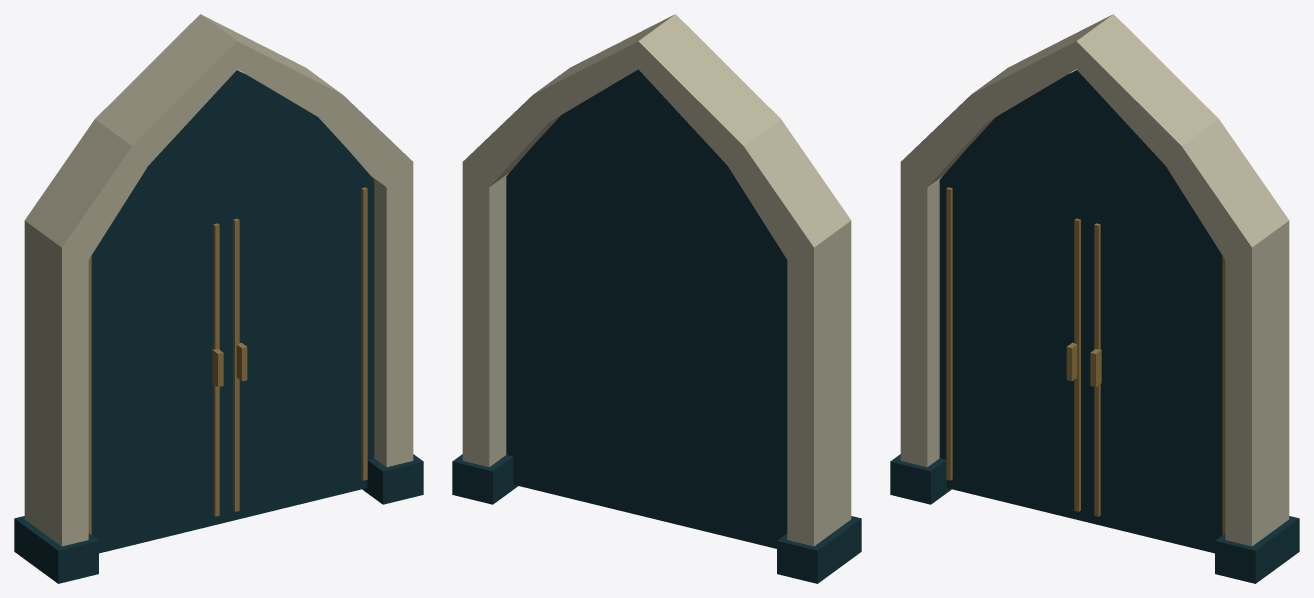
Rendered from WP_D01_royal_double_door_v02.glb.
The picture shows the model from 3 angles, left to right: view 1: azimuth 30°, elevation 25°; view 2: azimuth 150°, elevation 25°; view 3: azimuth 330°, elevation 25°; orthographic projection.
Visible parts, largest first — view 1: DoorFrame, DoorLeaf_R, DoorLeaf_L; view 2: DoorFrame, DoorLeaf_R, DoorLeaf_L; view 3: DoorFrame, DoorLeaf_L, DoorLeaf_R.
Part boxes in pixels (x1,y1,x2,y2): DoorFrame: (14,14,423,583); DoorLeaf_R: (225,70,374,522); DoorLeaf_L: (88,83,225,553); DoorFrame: (452,14,861,583); DoorLeaf_R: (506,69,655,518); DoorLeaf_L: (655,88,787,548); DoorFrame: (890,14,1299,583); DoorLeaf_L: (939,70,1088,522); DoorLeaf_R: (1088,83,1225,553).
Bounding box in the file's own units: 3.68 × 4.77 × 0.77.
